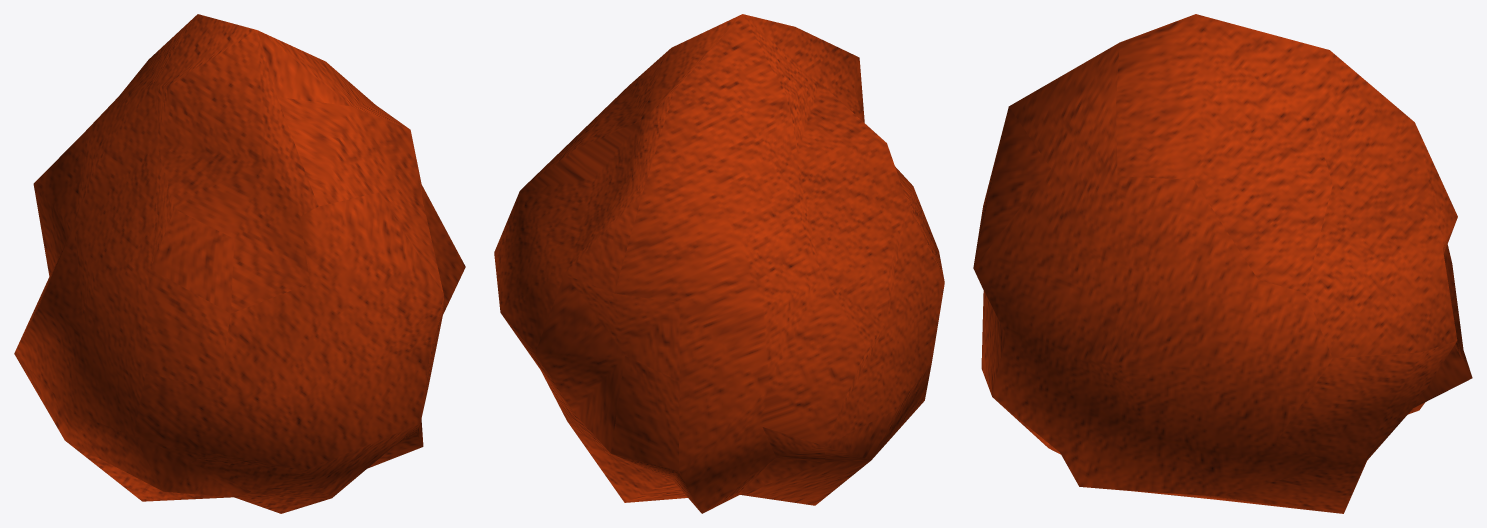
Rendered from stone-01.obj.
The picture shows the model from 3 angles, left to right: view 1: azimuth 30°, elevation 25°; view 2: azimuth 150°, elevation 25°; view 3: azimuth 270°, elevation 25°; orthographic projection. The views are drawn at different scales.
Visible parts, largest first — view 1: Cube.001_Cube.081; view 2: Cube.001_Cube.081; view 3: Cube.001_Cube.081.
Part boxes in pixels (x1,y1,x2,y2): Cube.001_Cube.081: [14, 14, 465, 513]; Cube.001_Cube.081: [494, 14, 944, 513]; Cube.001_Cube.081: [973, 14, 1472, 513].
Bounding box in the file's own units: 2.27 × 2.84 × 2.64.
Materials: 1 (1 with a texture image).
